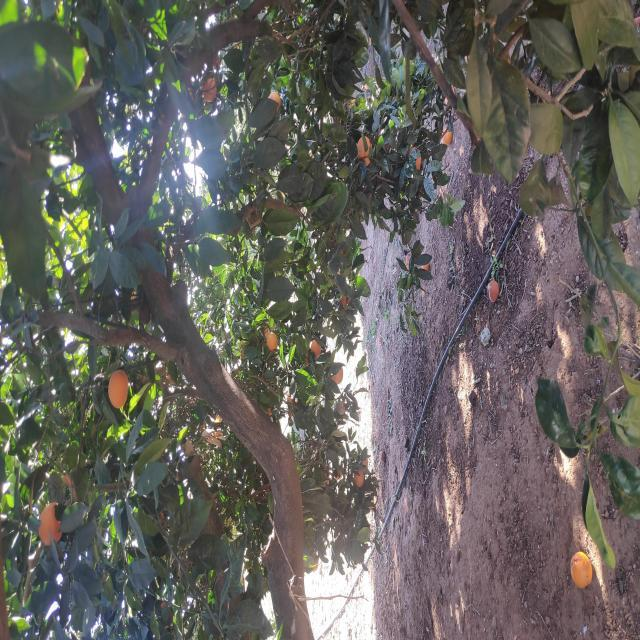Jeruk Sudah Matang: (96, 37, 136, 64), (232, 109, 272, 129), (538, 204, 568, 219), (476, 357, 506, 372), (530, 268, 548, 280), (256, 332, 274, 344), (156, 354, 174, 366), (285, 309, 302, 321), (296, 267, 310, 277)
